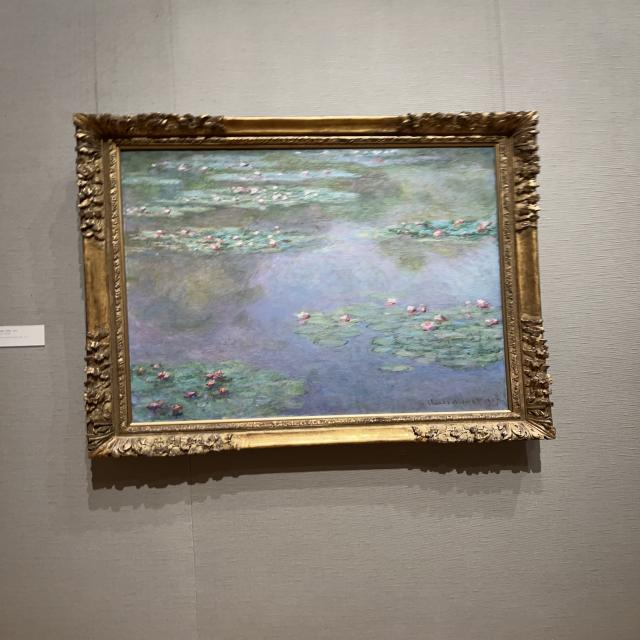lilies: (126, 151, 502, 418)
